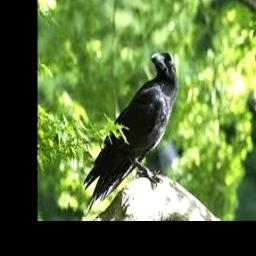Crow: (83, 49, 178, 217)
